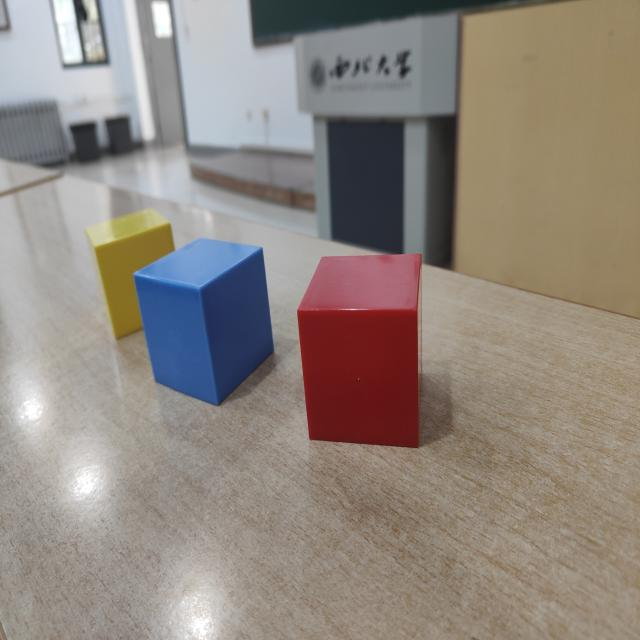blue: (133, 240, 275, 408)
red: (296, 254, 423, 451)
yellow: (84, 206, 188, 340)
